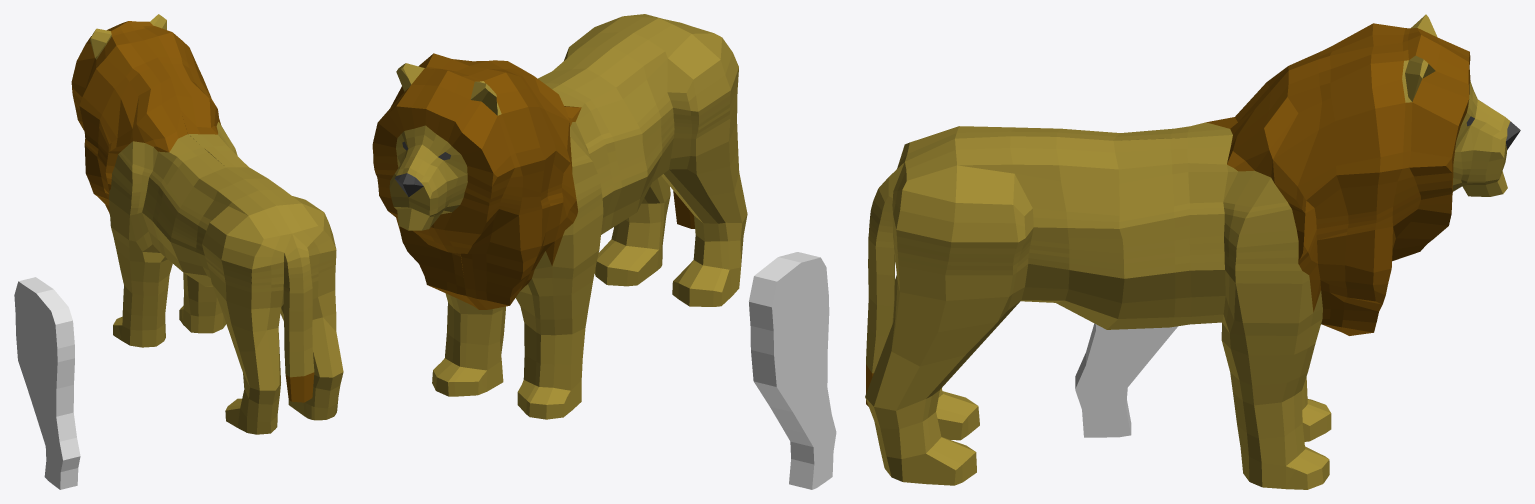
Rendered from Lion_Model.fbx.
3 views of the same model, side by side, from view 1: azimuth 30°, elevation 25°; view 2: azimuth 150°, elevation 25°; view 3: azimuth 270°, elevation 25° (orthographic). The views are drawn at different scales.
Visible parts, largest first — view 1: Plane, Cube; view 2: Plane, Cube; view 3: Plane, Cube.
Part boxes in pixels (x1,y1,x2,y2): Plane: [71, 14, 343, 434]; Cube: [14, 277, 80, 489]; Plane: [372, 14, 747, 419]; Cube: [749, 252, 836, 489]; Plane: [865, 14, 1520, 489]; Cube: [1075, 323, 1177, 437].
Bounding box in the file's own units: 373 × 511 × 581.
